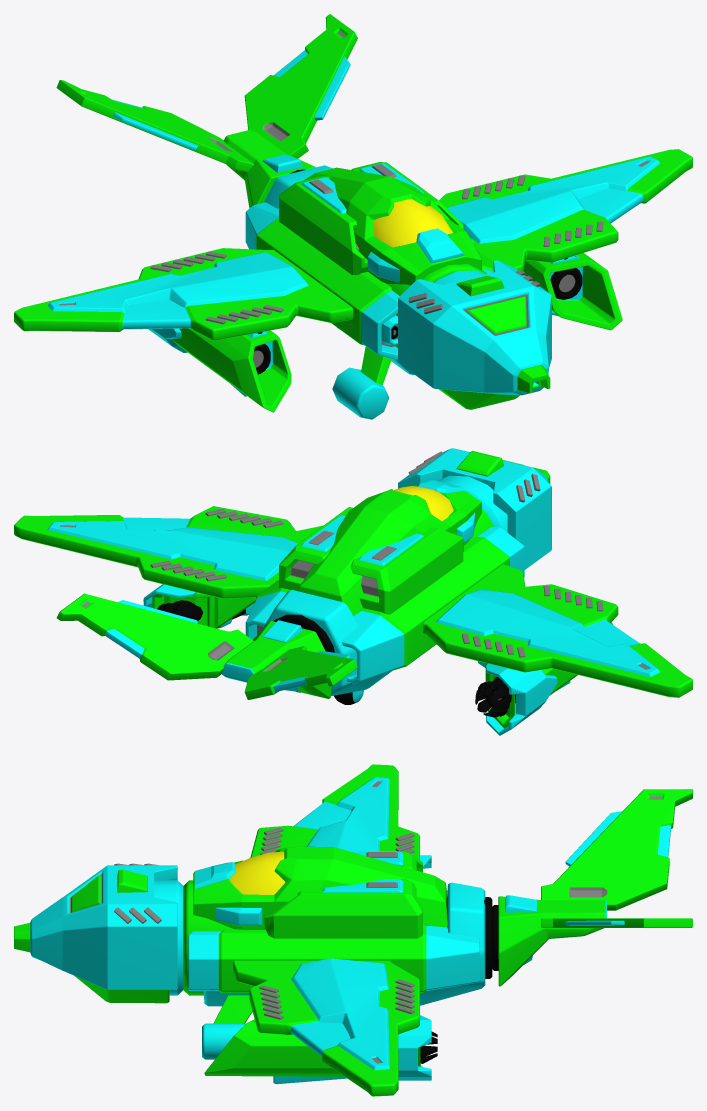
The picture shows the model from 3 angles, top to bottom: view 1: azimuth 30°, elevation 25°; view 2: azimuth 150°, elevation 25°; view 3: azimuth 270°, elevation 25°; orthographic projection.
Visible parts, largest first — view 1: Body16_A, Wing16_R, Propeller16, Wing16_L, Fin16, Spurt16_R, Spurt16_L, Body16_C; view 2: Body16_A, Wing16_R, Wing16_L, Fin16, Propeller16, Spurt16_R, Spurt16_L; view 3: Body16_A, Propeller16, Wing16_L, Fin16, Wing16_R, Spurt16_L, Body16_D.
Boxes of the visible parts, box(x1,y1,x2,y2) form: Body16_A: box(245, 162, 493, 375); Wing16_R: box(14, 248, 353, 340); Propeller16: box(398, 260, 551, 409); Wing16_L: box(439, 149, 692, 271); Fin16: box(56, 14, 357, 208); Spurt16_R: box(148, 328, 291, 412); Spurt16_L: box(523, 253, 622, 330); Body16_C: box(332, 346, 391, 419); Body16_A: box(245, 480, 524, 695); Wing16_R: box(423, 564, 692, 697); Wing16_L: box(14, 506, 322, 598); Fin16: box(56, 593, 357, 699); Propeller16: box(398, 448, 551, 569); Spurt16_R: box(475, 622, 612, 735); Spurt16_L: box(143, 584, 256, 628); Body16_A: box(183, 846, 492, 1006); Propeller16: box(14, 863, 183, 1003); Wing16_L: box(233, 958, 419, 1096); Fin16: box(492, 789, 692, 986); Wing16_R: box(250, 764, 419, 859); Spurt16_L: box(204, 1015, 437, 1084); Body16_D: box(202, 995, 252, 1059).
Size of the model in its own units: 22.25 by 5.57 by 19.83.
